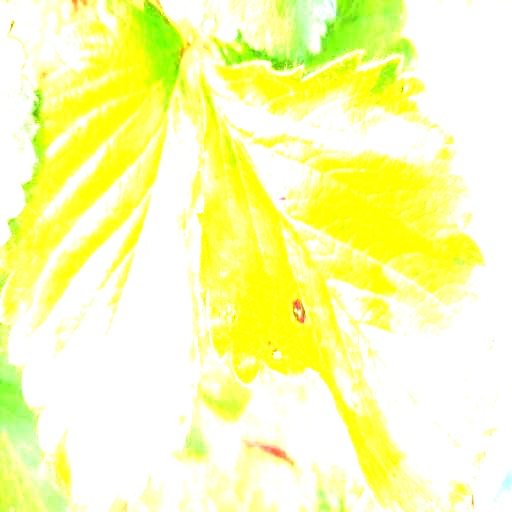Leaf Spot: (195, 50, 506, 511), (0, 0, 205, 511)
